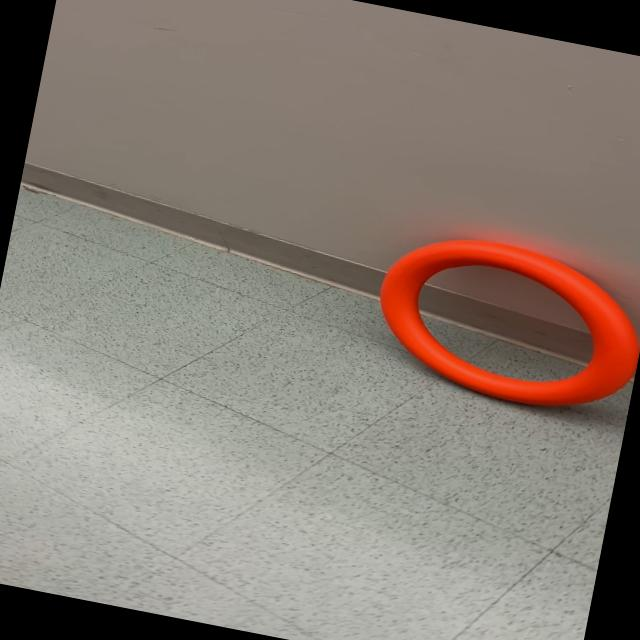note: (361, 220, 640, 424)
